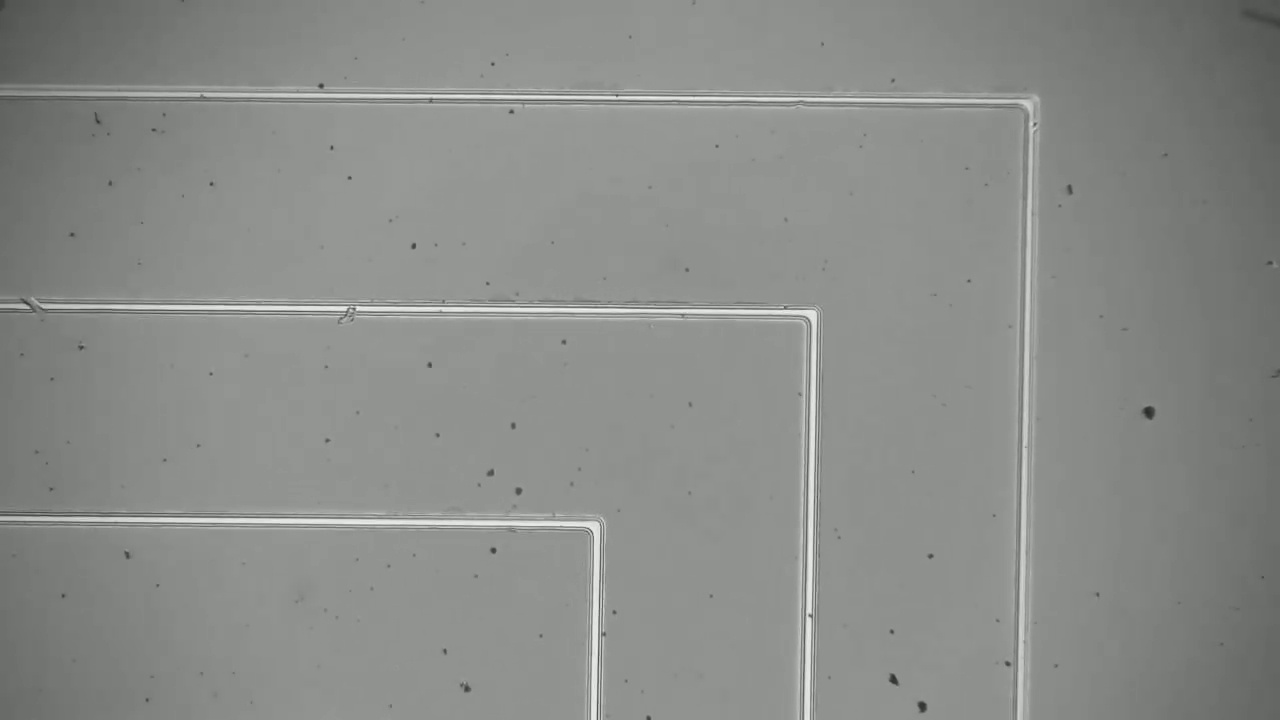open: (9, 290, 63, 324)
stains_enbedded: (329, 287, 372, 335)
